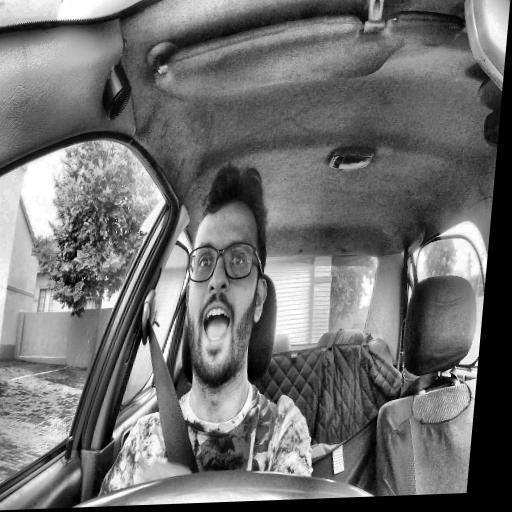awake: (176, 163, 280, 389)
